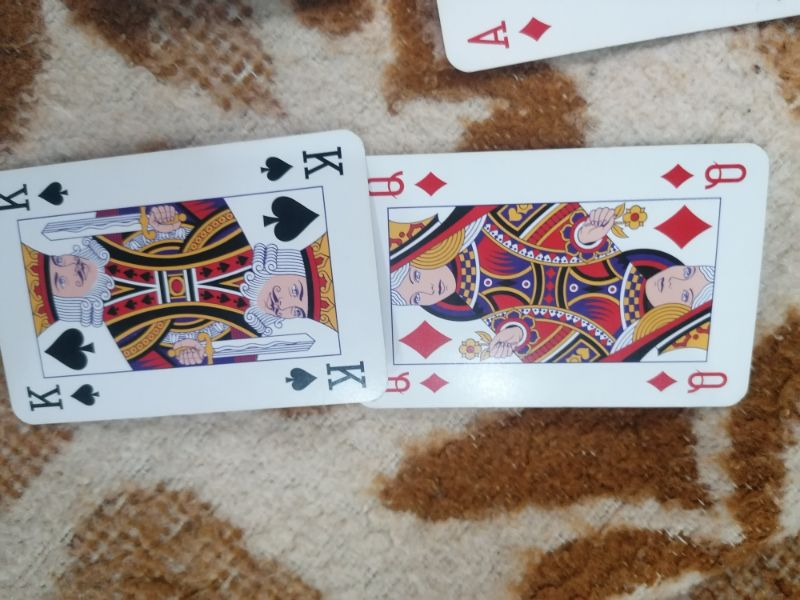Ad: (463, 11, 561, 55)
Ks: (258, 142, 349, 187), (24, 377, 104, 417), (282, 358, 371, 393), (1, 177, 74, 215)
Qd: (657, 154, 752, 192), (365, 166, 453, 201), (645, 366, 732, 396), (382, 369, 455, 397)
